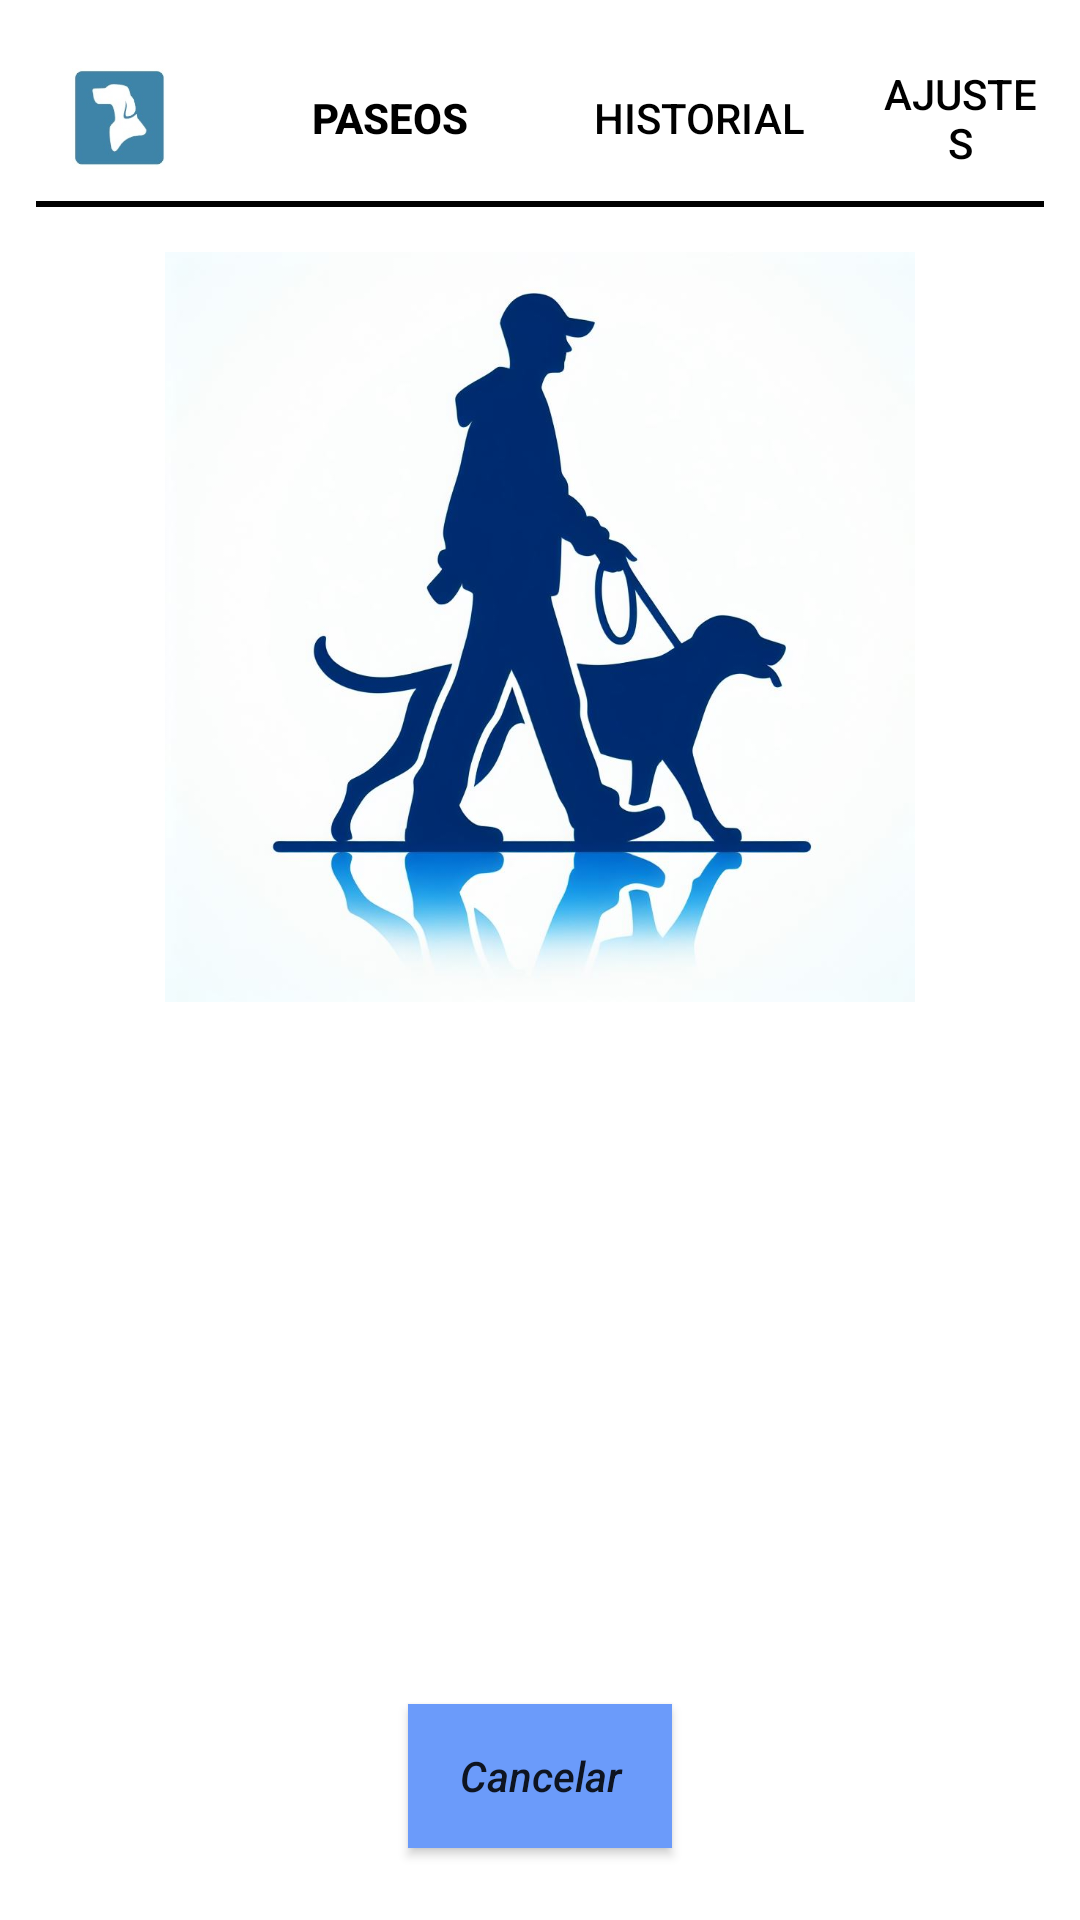

Where to tap for icons on this 1080px×1920px app screen, as point (x, y):
loguito: point (119, 118)
